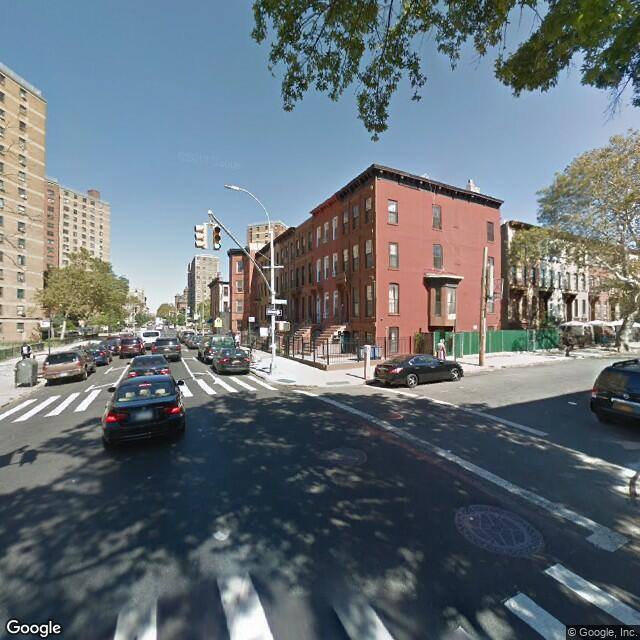litter: (564, 396, 577, 406)
